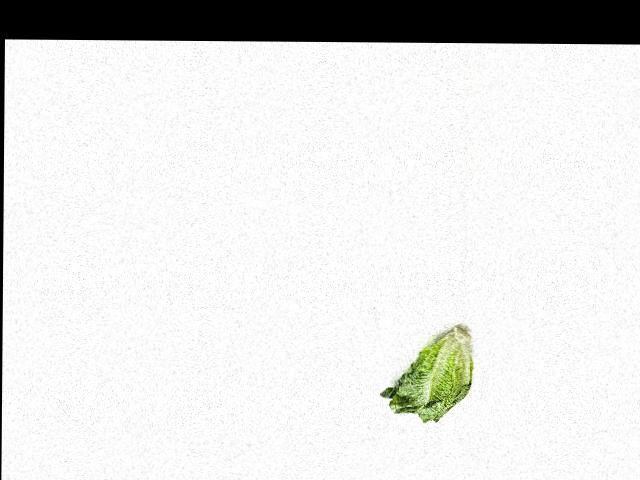lettuce: (380, 328, 476, 427)
